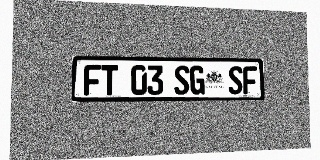0: (131, 65, 147, 95)
3: (147, 65, 163, 95)
F: (84, 65, 101, 96), (243, 66, 257, 94)
G: (190, 66, 205, 95)
S: (174, 65, 189, 95), (228, 66, 243, 94)
T: (101, 65, 118, 95)
